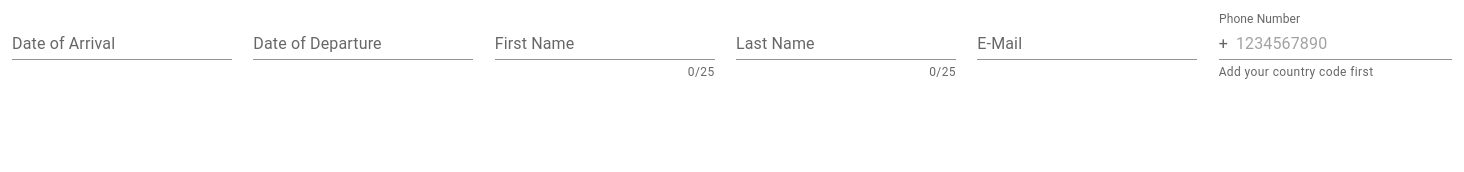
Test: SearchCriteria › does not update state with invalid characters in text fields
In the field labelled "Last Name": [846, 44] box [736,28,956,60], type "test&test%"
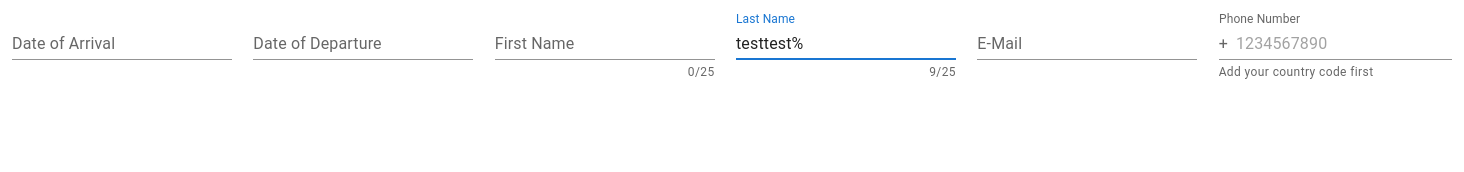
Now the field labelled "Last Name" holds "testtest%", box [736,28,956,60]
